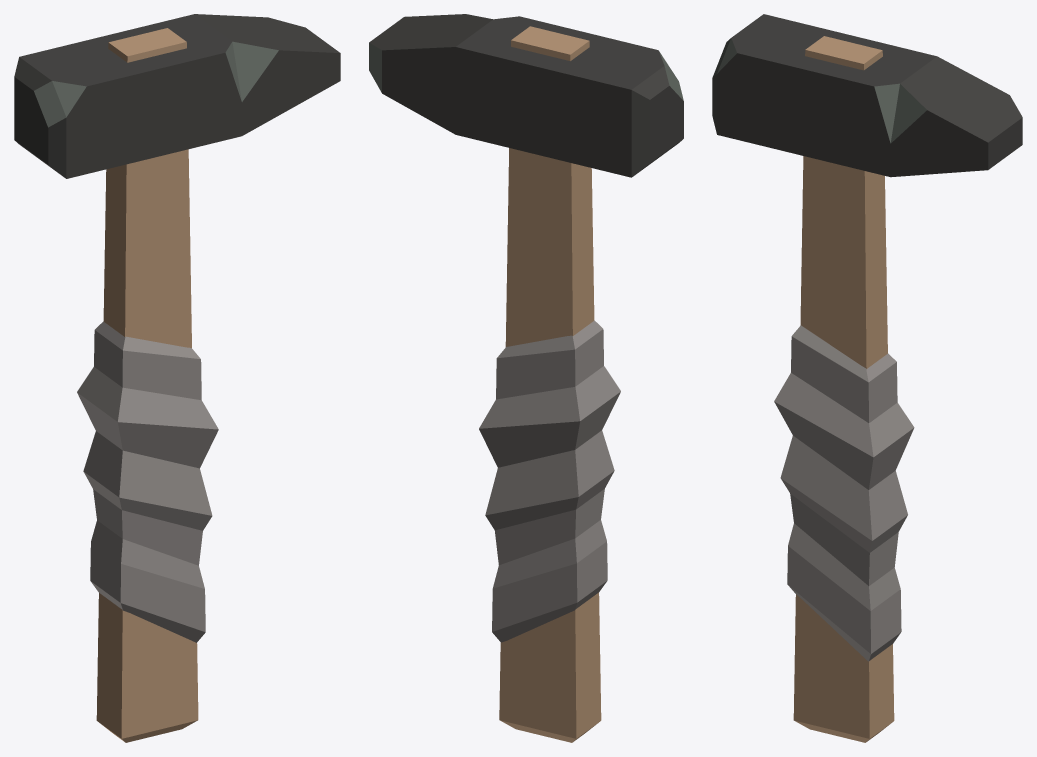
Rendered from SM_Hammer.fbx.
The picture shows the model from 3 angles, left to right: view 1: azimuth 30°, elevation 25°; view 2: azimuth 150°, elevation 25°; view 3: azimuth 330°, elevation 25°; orthographic projection.
Visible parts, largest first — view 1: SM_Hammer; view 2: SM_Hammer; view 3: SM_Hammer.
Boxes of the visible parts, x1,y1,x2,y2 form: SM_Hammer: (14, 14, 340, 742); SM_Hammer: (369, 14, 683, 742); SM_Hammer: (712, 14, 1022, 742).
Bounding box in the file's own units: 18.91 × 43.57 × 5.41.
